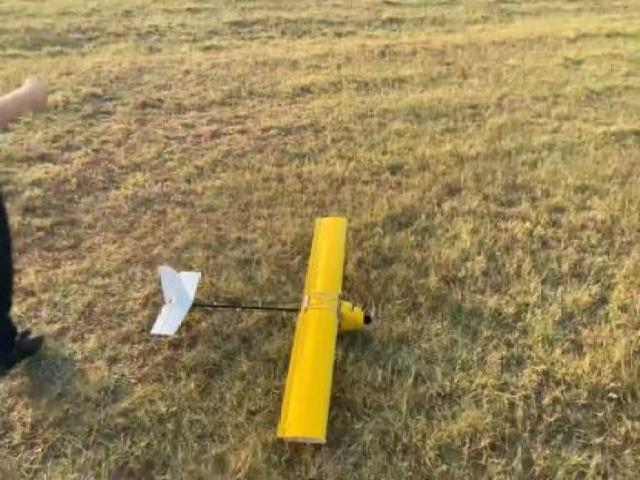uav: (154, 215, 371, 444)
